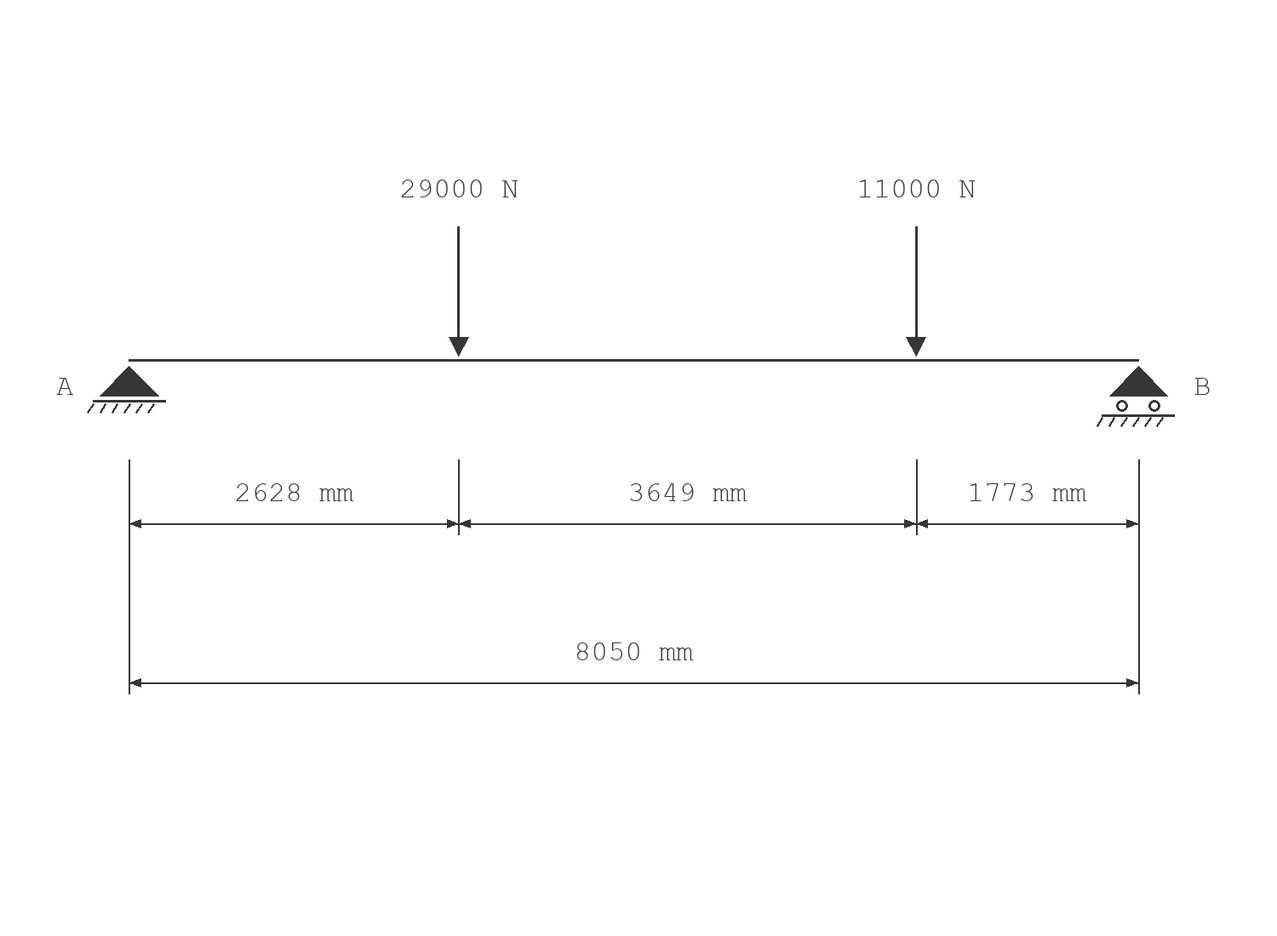pin_support: (87, 366, 166, 414)
point_load: (449, 226, 469, 357), (906, 226, 926, 357)
roller_support: (1097, 366, 1175, 427)
